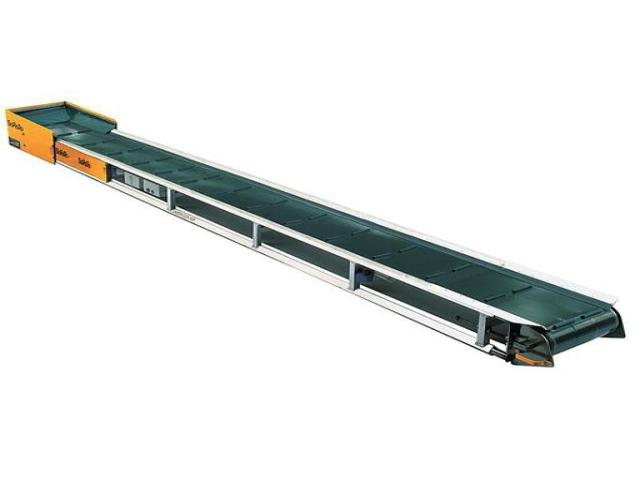conveyor: (2, 98, 626, 370)
